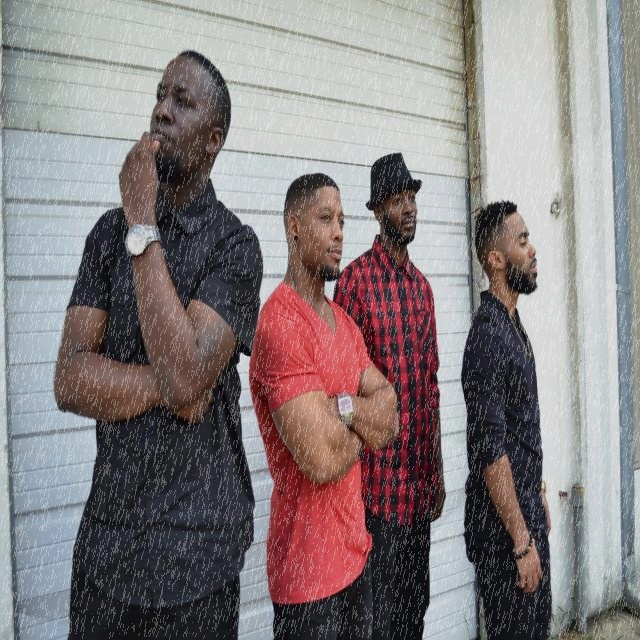pessoa: (36, 42, 267, 639), (245, 159, 400, 639), (332, 150, 448, 640), (460, 194, 563, 639)
